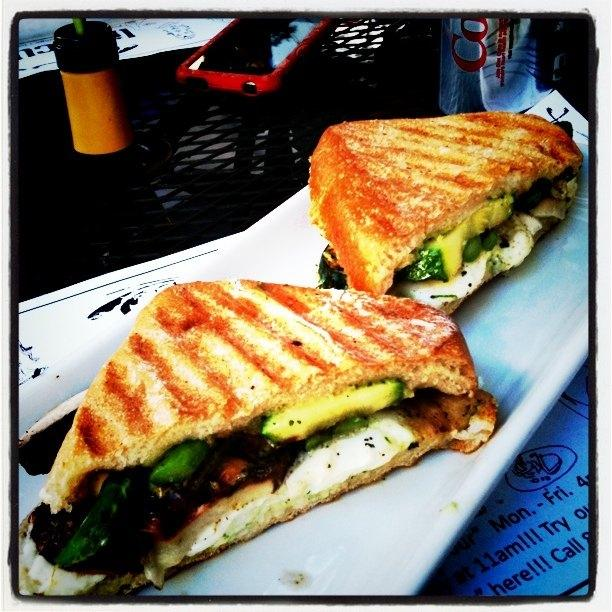avocado: (396, 194, 515, 284), (262, 380, 403, 444)
